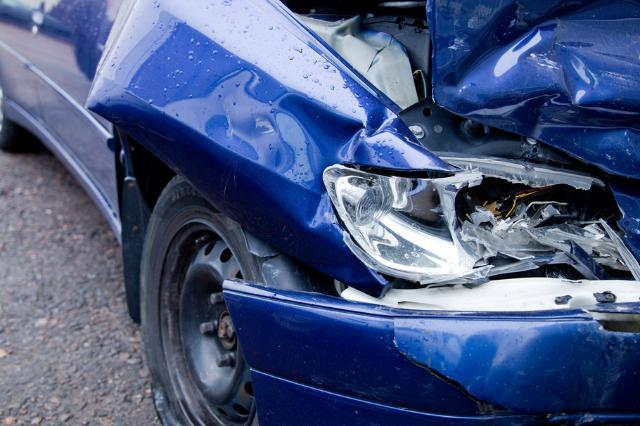Bonnet: (282, 0, 640, 193)
Bumper: (210, 280, 640, 426)
Fender: (79, 0, 442, 299)
Light: (314, 165, 640, 291)
